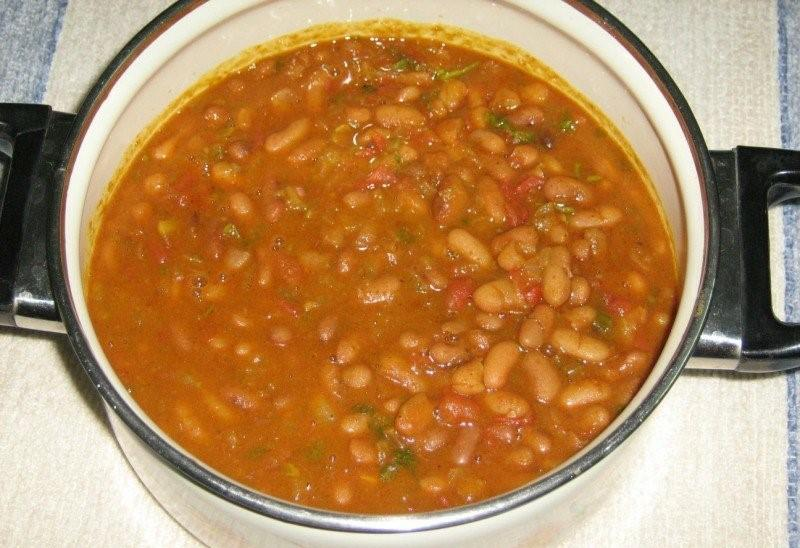RajmaCurry: (87, 33, 674, 513)
